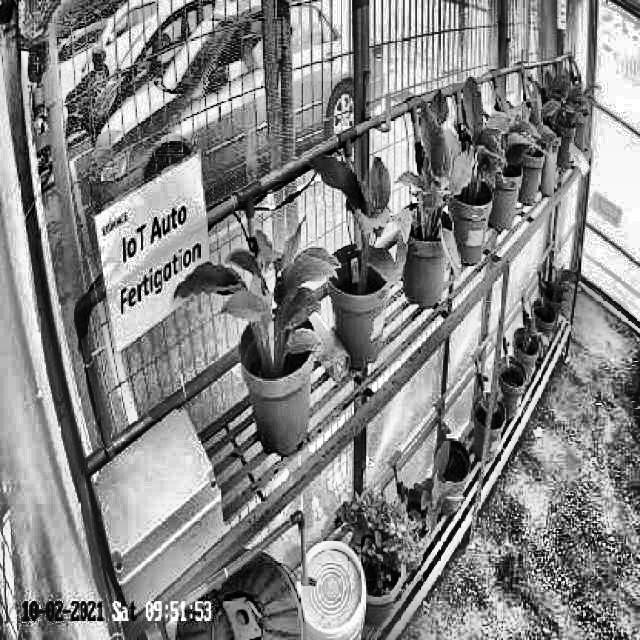plants: (173, 218, 339, 356), (310, 148, 412, 276), (391, 100, 462, 271), (437, 73, 511, 204)
